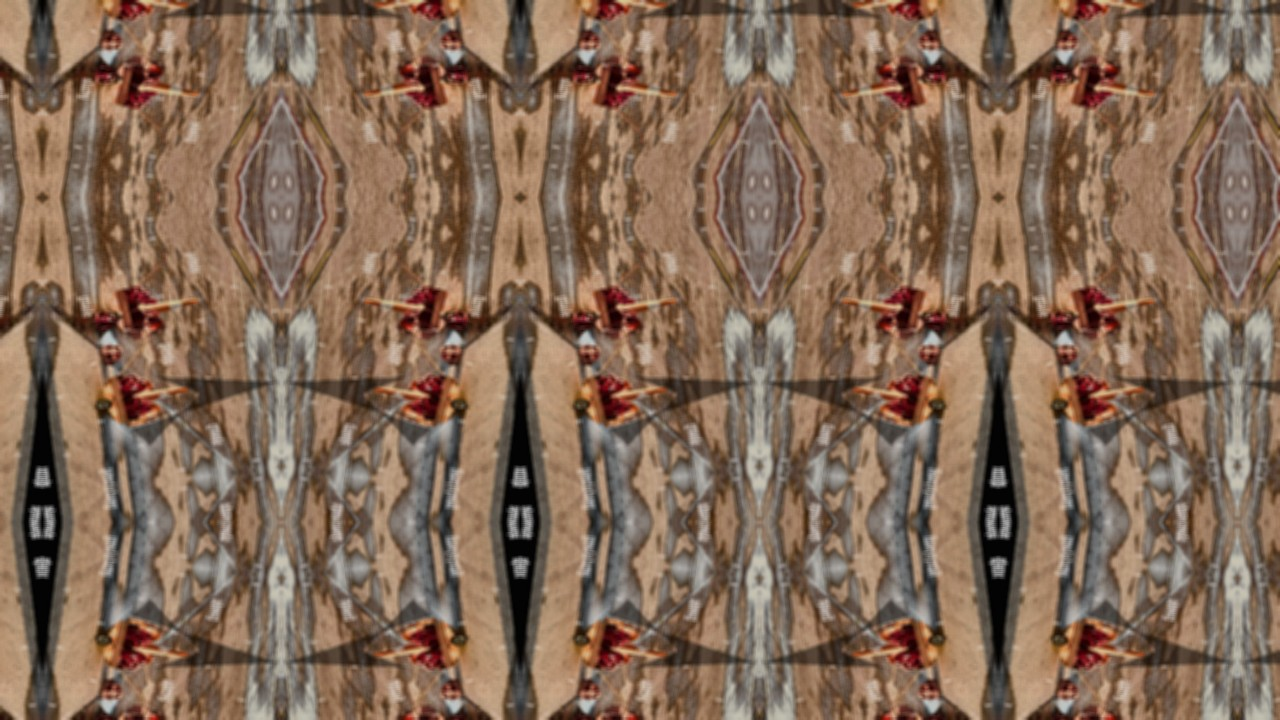chock: (117, 372, 149, 397), (413, 372, 445, 397), (1074, 372, 1106, 397), (117, 648, 149, 673), (413, 648, 445, 673), (1074, 648, 1106, 673), (97, 27, 125, 55), (437, 27, 465, 55), (575, 27, 603, 55), (916, 27, 944, 55), (1054, 27, 1082, 55), (97, 340, 125, 368), (437, 340, 465, 368), (575, 340, 603, 368), (916, 340, 944, 368), (1054, 340, 1082, 368), (97, 677, 125, 705), (437, 677, 465, 705), (575, 677, 603, 705), (916, 677, 944, 705), (1054, 677, 1082, 705), (596, 372, 627, 397), (892, 372, 923, 397), (596, 648, 627, 673), (892, 648, 923, 673), (117, 0, 149, 23), (413, 0, 445, 23), (1074, 0, 1106, 23), (129, 66, 160, 89), (402, 66, 433, 89), (607, 66, 638, 89), (596, 0, 627, 23), (881, 66, 912, 89), (892, 0, 923, 23), (1086, 66, 1117, 89), (122, 395, 153, 418), (129, 306, 160, 329), (409, 395, 440, 418), (402, 306, 433, 329), (601, 395, 632, 418), (607, 306, 638, 329), (887, 395, 918, 418), (881, 306, 912, 329), (1079, 395, 1110, 418), (1086, 306, 1117, 329), (122, 627, 153, 650), (409, 627, 440, 650), (601, 627, 632, 650), (887, 627, 918, 650), (1079, 627, 1110, 650), (123, 89, 150, 111), (412, 89, 439, 111), (601, 89, 628, 111), (891, 89, 918, 111), (1080, 89, 1107, 111), (123, 284, 150, 306), (412, 284, 439, 306), (601, 284, 628, 306), (891, 284, 918, 306), (1080, 284, 1107, 306), (571, 62, 596, 85), (923, 62, 948, 85), (571, 310, 596, 333), (923, 310, 948, 333), (93, 62, 117, 85), (445, 62, 469, 85), (1050, 62, 1074, 85), (93, 310, 117, 333), (445, 310, 469, 333), (1050, 310, 1074, 333), (143, 401, 165, 422), (397, 401, 419, 422), (1100, 401, 1122, 422), (143, 623, 165, 644), (397, 623, 419, 644), (1100, 623, 1122, 644), (622, 401, 643, 422), (876, 401, 897, 422), (622, 623, 643, 644), (876, 623, 897, 644), (146, 60, 168, 80), (394, 60, 416, 80), (625, 60, 647, 80), (872, 60, 894, 80), (1103, 60, 1125, 80), (146, 315, 168, 335), (394, 315, 416, 335), (625, 315, 647, 335), (872, 315, 894, 335), (1103, 315, 1125, 335), (134, 2, 156, 19), (406, 2, 428, 19), (1091, 2, 1113, 19), (134, 376, 156, 393), (406, 376, 428, 393), (1091, 376, 1113, 393), (134, 652, 156, 669), (406, 652, 428, 669), (1091, 652, 1113, 669), (613, 2, 634, 19), (885, 2, 906, 19), (613, 376, 634, 393), (885, 376, 906, 393), (613, 652, 634, 669), (885, 652, 906, 669), (146, 710, 168, 720), (394, 710, 416, 720), (625, 710, 647, 720), (872, 710, 894, 720), (1103, 710, 1125, 720), (571, 712, 596, 720), (923, 712, 948, 720), (93, 712, 117, 720), (445, 712, 469, 720), (1050, 712, 1074, 720), (144, 90, 160, 100), (402, 90, 418, 100), (622, 90, 638, 100), (881, 90, 897, 100), (1101, 90, 1117, 100), (144, 295, 160, 305), (402, 295, 418, 305), (622, 295, 638, 305), (881, 295, 897, 305), (1101, 295, 1117, 305), (129, 716, 160, 720), (402, 716, 433, 720), (607, 716, 638, 720), (881, 716, 912, 720), (1086, 716, 1117, 720)
wheel: (94, 398, 113, 411), (449, 398, 468, 411), (1051, 398, 1070, 411), (94, 634, 113, 647), (449, 634, 468, 647), (1051, 634, 1070, 647), (573, 398, 591, 411), (928, 398, 946, 411), (573, 634, 591, 647), (928, 634, 946, 647), (104, 72, 120, 86), (442, 72, 458, 86), (1061, 72, 1077, 86), (104, 309, 120, 323), (442, 309, 458, 323), (1061, 309, 1077, 323), (583, 72, 598, 86), (921, 72, 936, 86), (583, 309, 598, 323), (921, 309, 936, 323)
